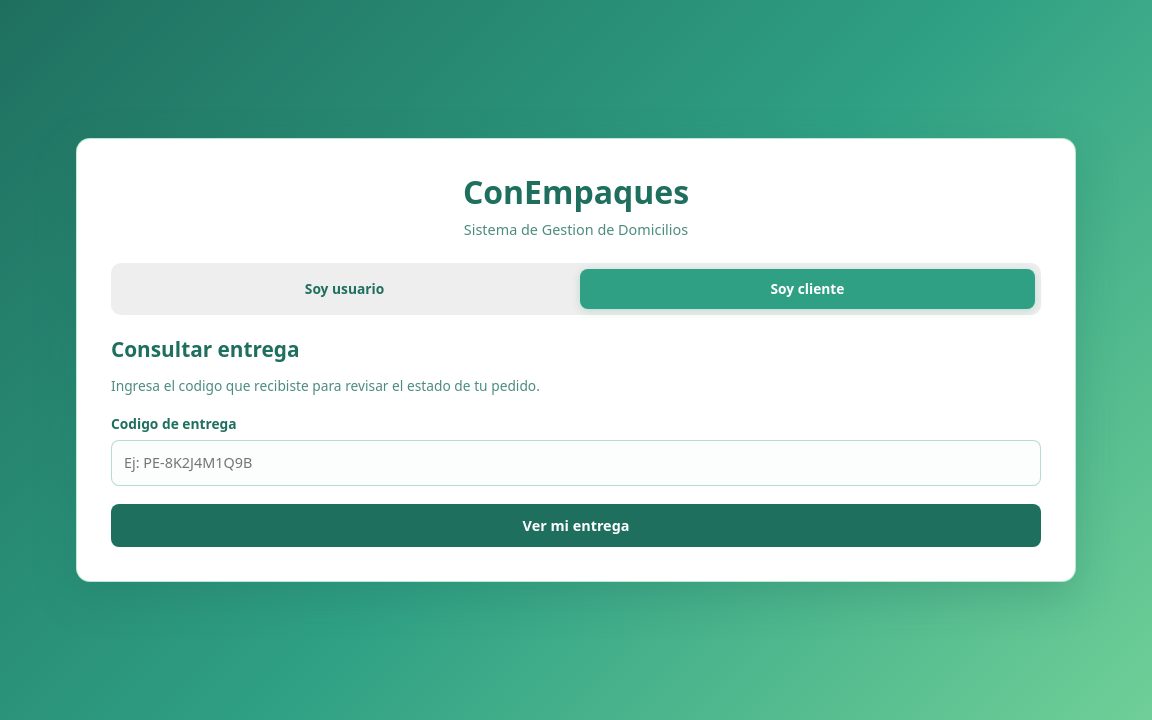
Login module › valida codigo vacio para cliente
Click the button "Ver mi entrega" at (576, 526), box [111, 504, 1041, 547]
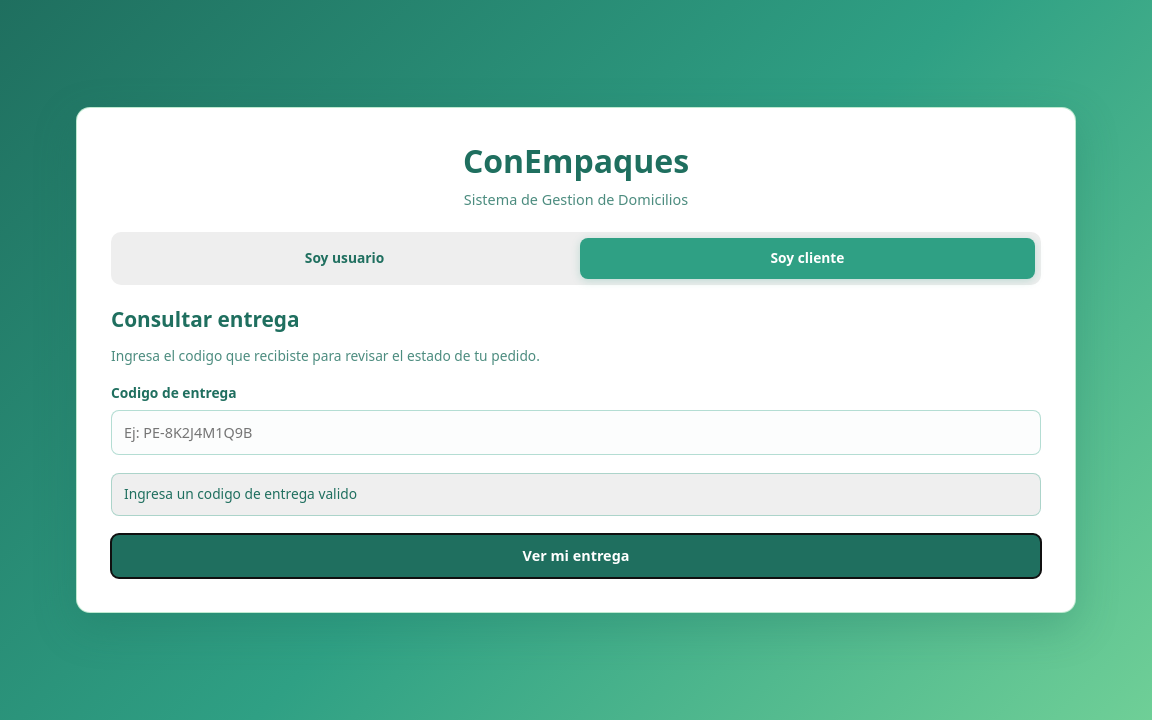
Now the text "Ingresa un codigo de entrega valido" is shown, box [111, 473, 1041, 516]
